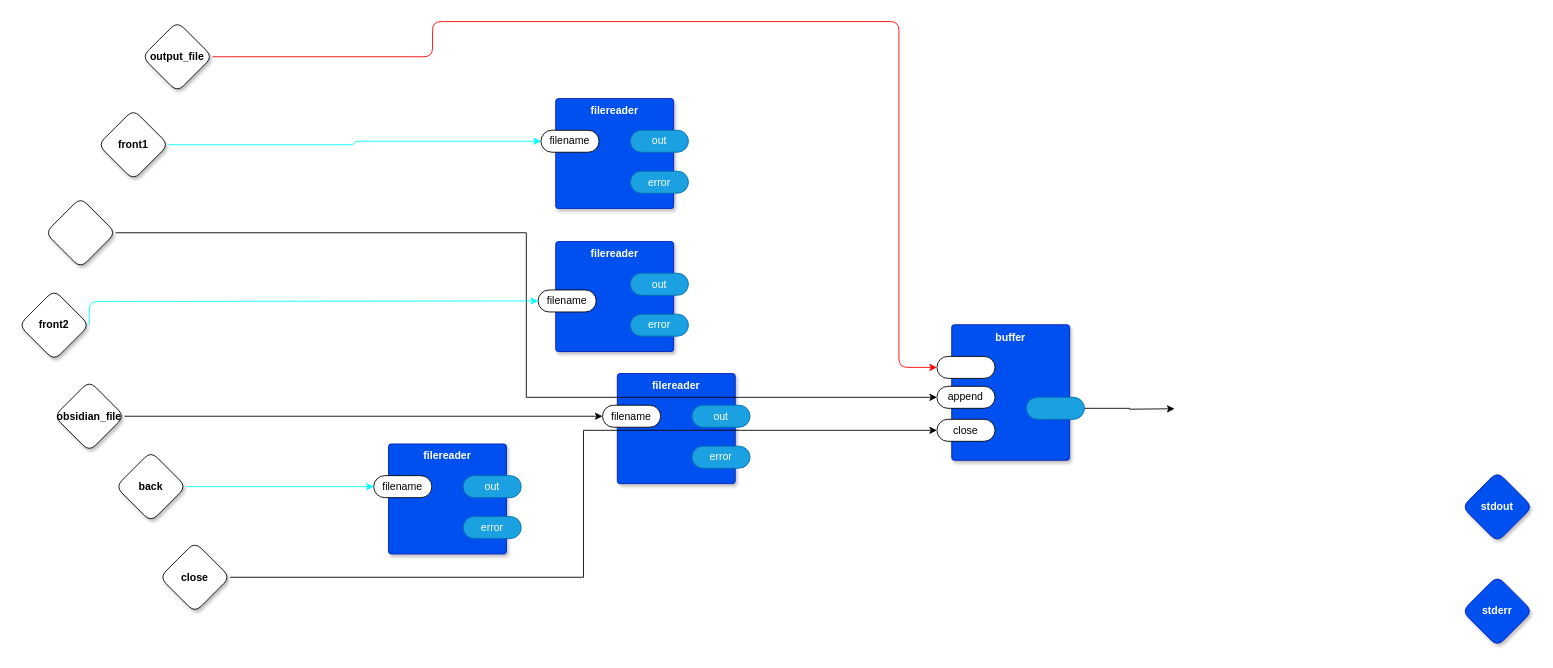
Image size: 1553x668. Some labels were removed from this diagram. Here are the shapes that lost their labels. From the top down, the centre of each, then its label:
At pixel 81 233: "title".
At pixel 965 367: "open".
At pixel 1054 407: "output".
